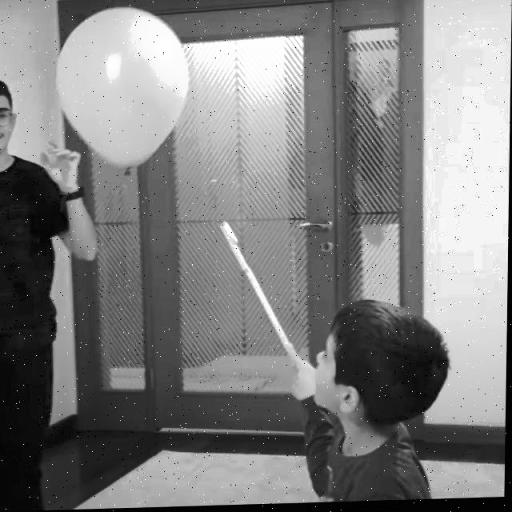balloon: (58, 4, 190, 174)
